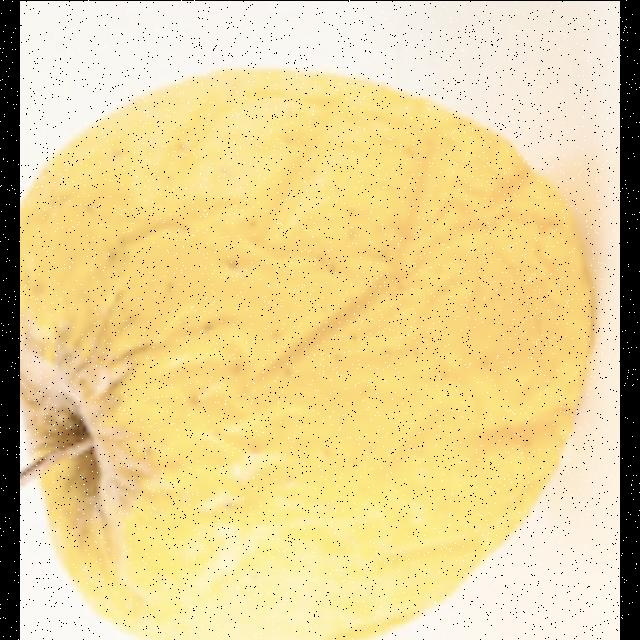Apel Tidak Segar: (20, 68, 594, 640)
